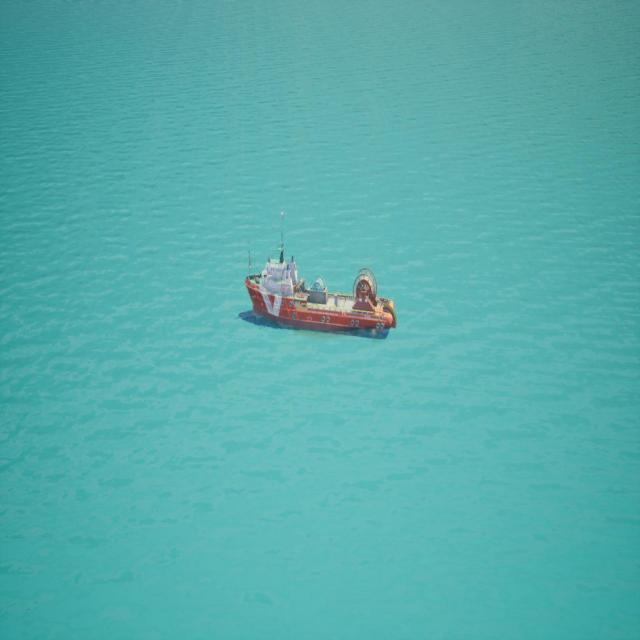tug boat: (241, 212, 399, 344)
